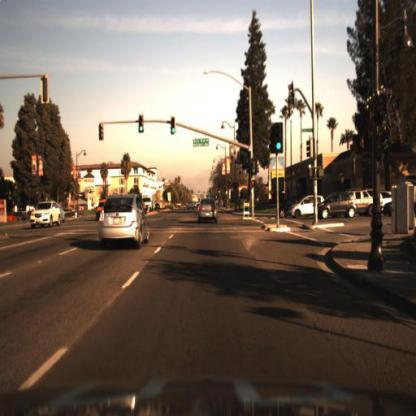car: (98, 194, 152, 252), (315, 189, 358, 222), (351, 185, 386, 220), (30, 199, 63, 230), (286, 196, 324, 220), (196, 192, 221, 225), (94, 195, 110, 225), (279, 198, 299, 221), (58, 205, 70, 227), (185, 198, 198, 215)
trafficLight: (98, 122, 106, 142)
trafficLight-Green: (274, 125, 286, 156), (138, 115, 146, 136), (138, 116, 146, 136), (251, 158, 259, 176), (171, 116, 176, 139)
